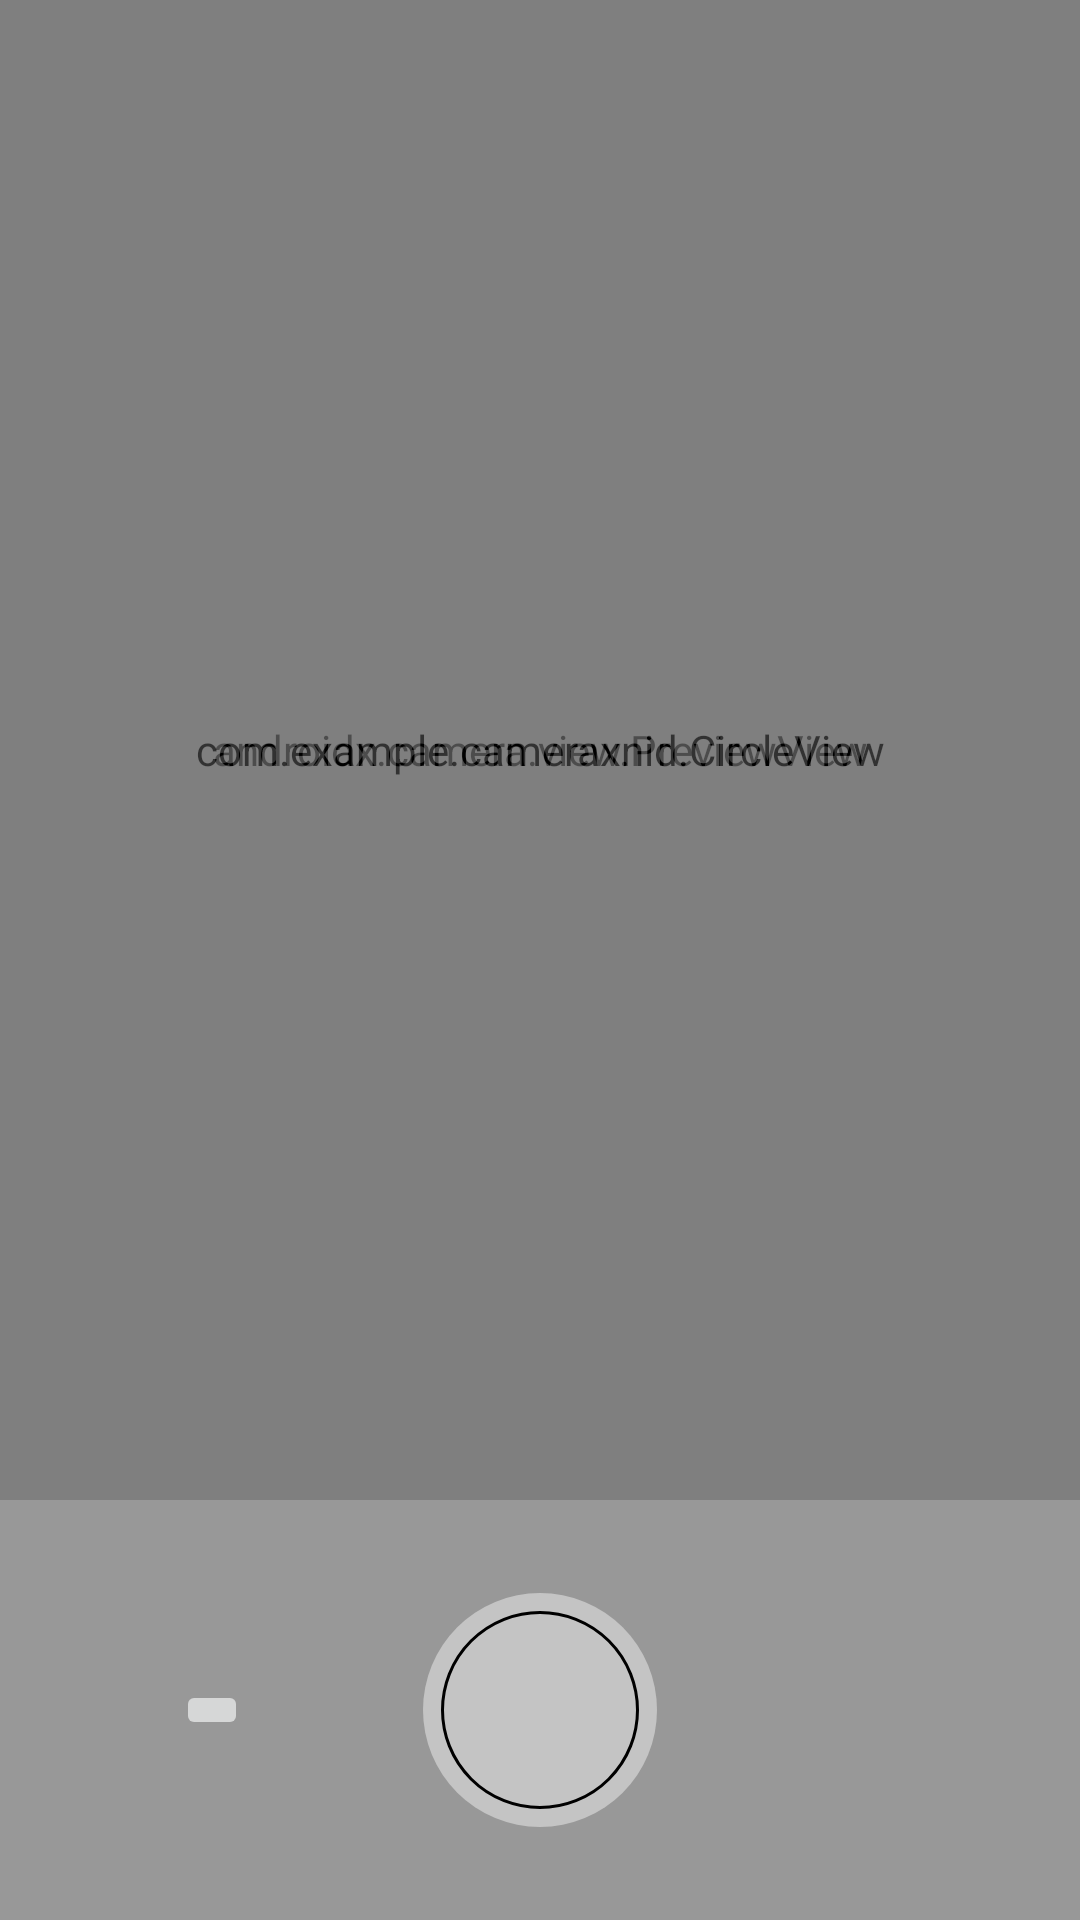

Named icons in this screenshot (1080 x 1920) and their centers, (x=x, y=y):
take photo: (x=540, y=1710)
